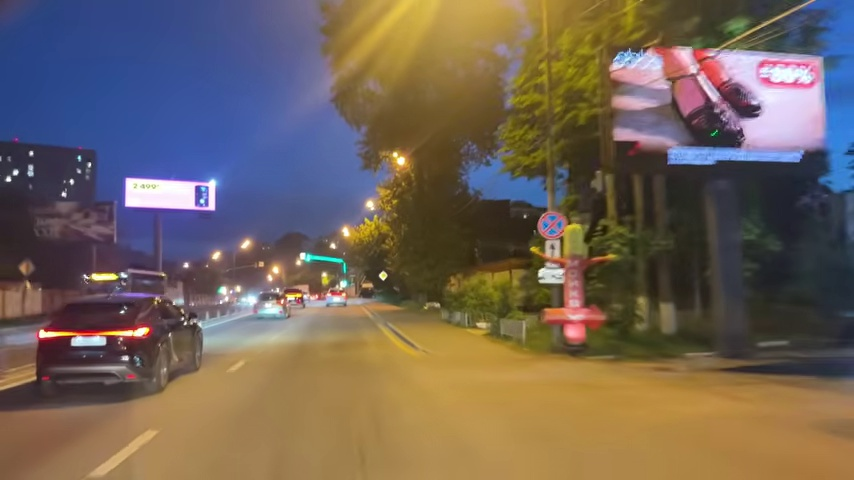acesa: (389, 151, 412, 172), (237, 236, 254, 254)
